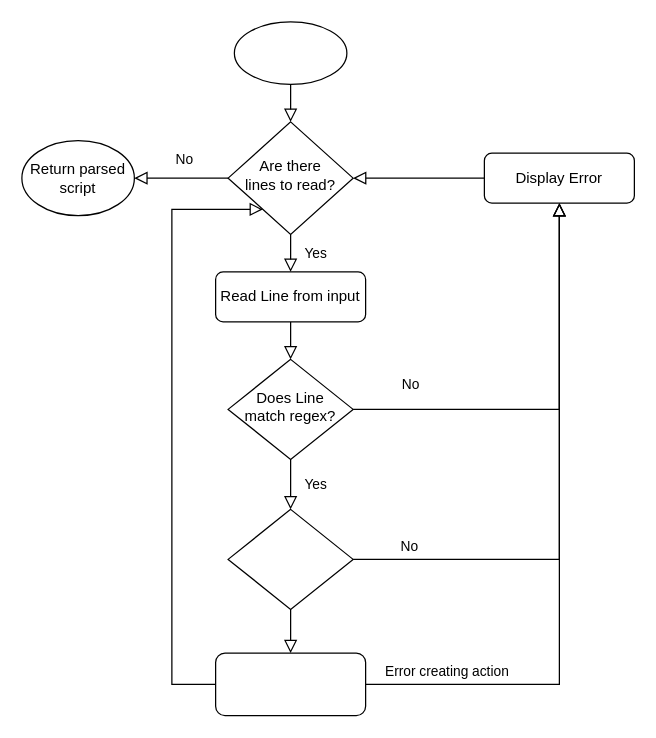
Some shapes in this 656 by 738 pixel diagram are drawn without their labels. Each missing label, with the box of its shape:
Create Action Class and add to end of parsed script: (214, 652, 366, 716)
Is the action known/valid?: (227, 508, 353, 609)
Start: (233, 21, 347, 84)
